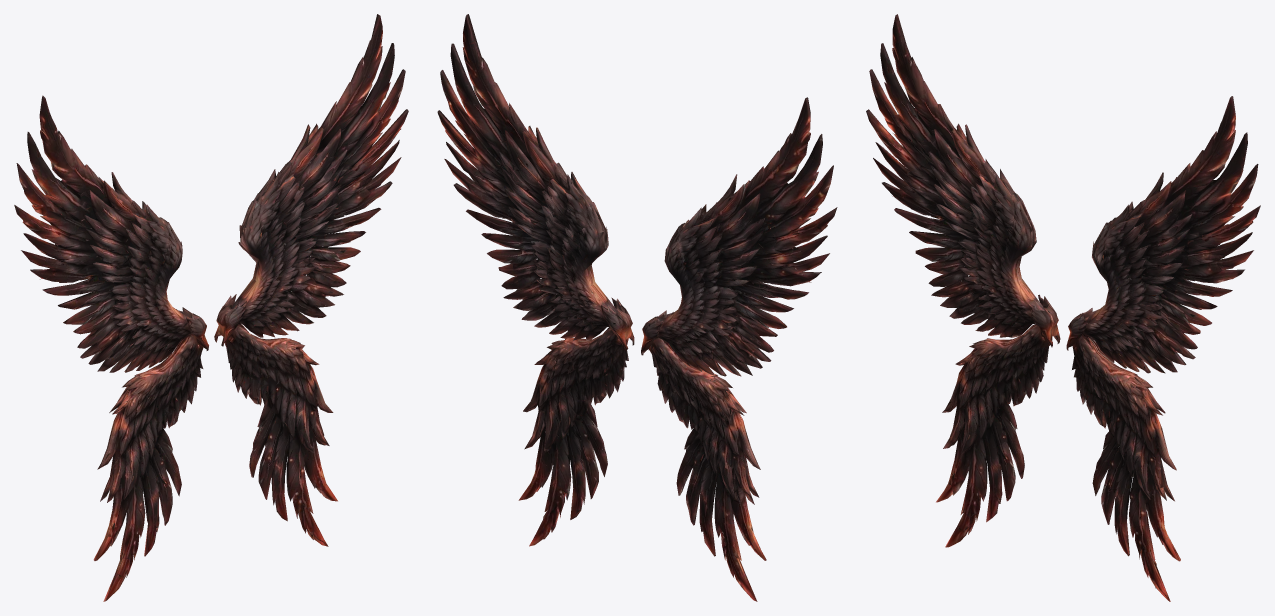
The model's file is wings.glb.
3 renders of one model, left to right at view 1: azimuth 30°, elevation 25°; view 2: azimuth 150°, elevation 25°; view 3: azimuth 330°, elevation 25°, orthographic.
Bounding box in the file's own units: 1.52 × 1.9 × 0.0977.
Materials: 1 (1 with a texture image).
